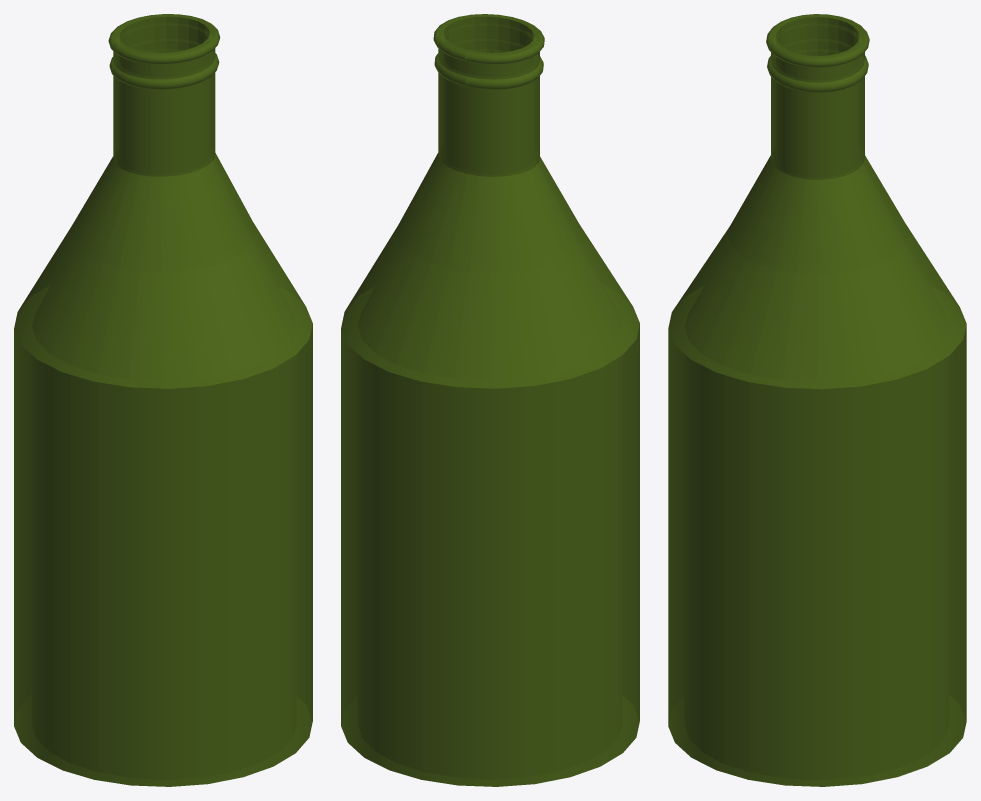
The picture shows the model from 3 angles, left to right: view 1: azimuth 30°, elevation 25°; view 2: azimuth 150°, elevation 25°; view 3: azimuth 270°, elevation 25°; orthographic projection.
Visible parts, largest first — view 1: SketchUp (×2); view 2: SketchUp (×2); view 3: SketchUp (×2).
Part boxes in pixels (x1,y1,x2,y2): SketchUp (×2): [14, 14, 312, 786]; SketchUp (×2): [341, 14, 639, 786]; SketchUp (×2): [668, 14, 966, 786].
Bounding box in the file's own units: 122 × 122 × 310.
